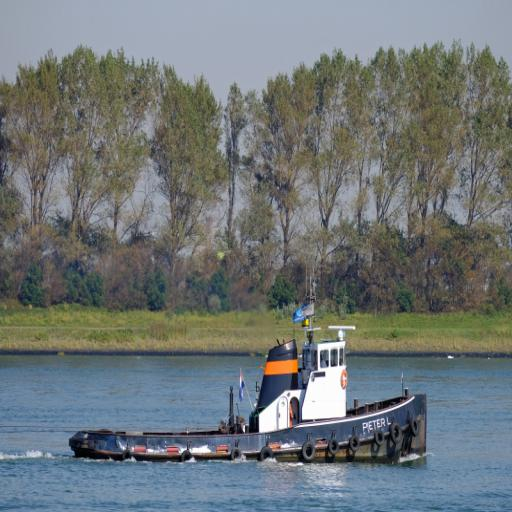tugboat: (68, 267, 433, 472)
